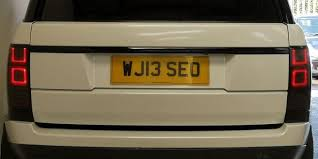number_plate: (107, 51, 215, 88)
